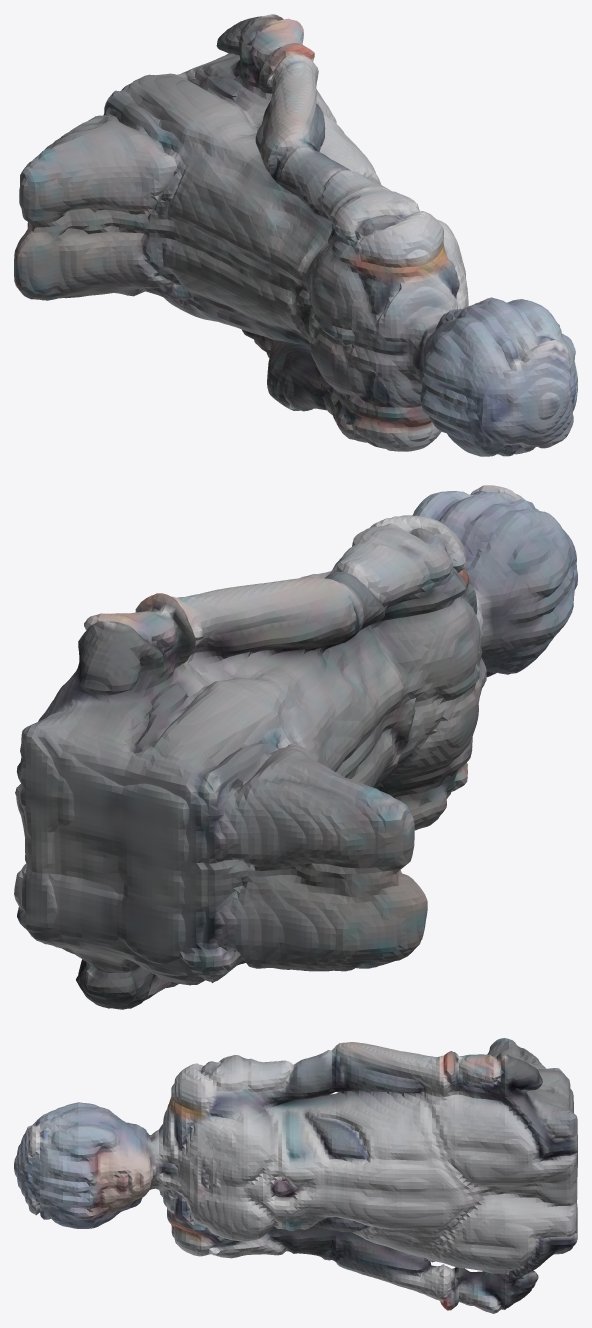
3 renders of one model, top to bottom at view 1: azimuth 30°, elevation 25°; view 2: azimuth 150°, elevation 25°; view 3: azimuth 270°, elevation 25°, orthographic. The views are drawn at different scales.
Visible parts, largest first — view 1: world; view 2: world; view 3: world.
Part boxes in pixels (bbox=[...]): world: bbox=[14, 14, 577, 456]; world: bbox=[14, 485, 577, 1009]; world: bbox=[14, 1038, 577, 1313].
Bounding box in the file's own units: 0.4886 × 0.4973 × 1.
